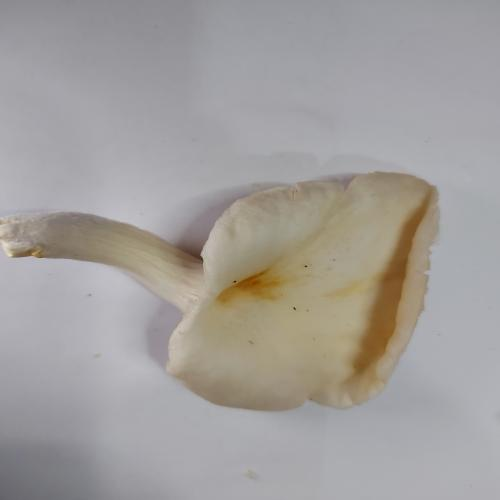Oyster Mushroom: (1, 169, 441, 412)
